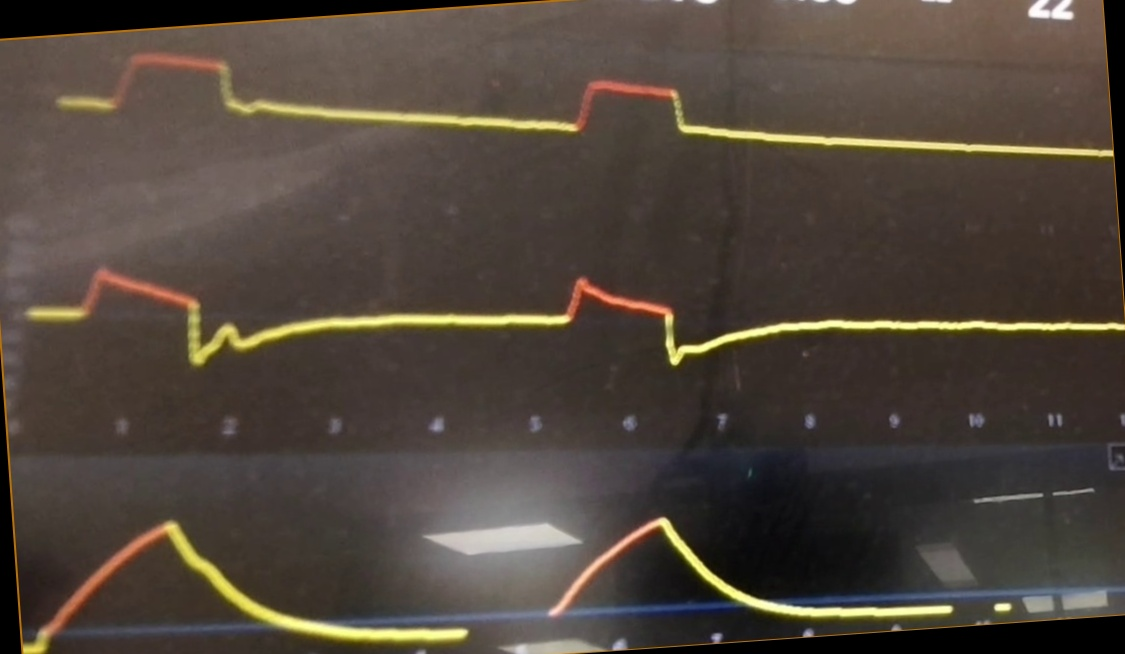Premature_cycling Flow: (28, 224, 1117, 392)
Premature_cycling Volume: (25, 500, 958, 641)
